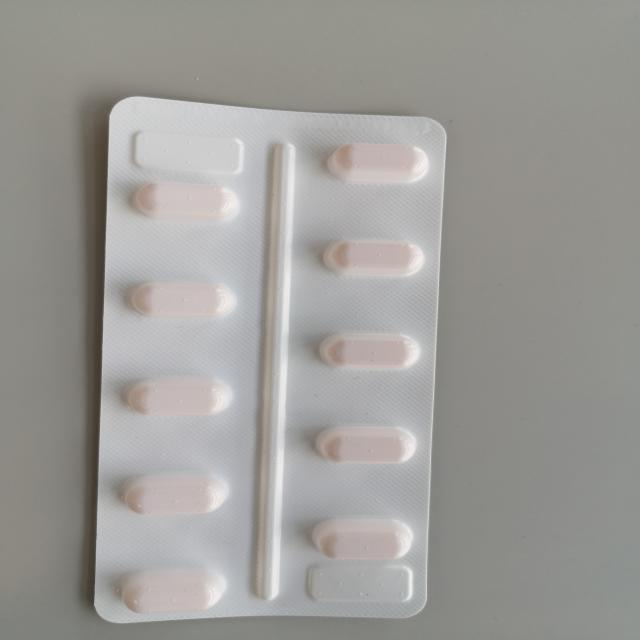Pill: (112, 173, 254, 229), (314, 129, 439, 192), (112, 460, 239, 522), (110, 561, 236, 621), (110, 366, 241, 423), (303, 414, 428, 472), (119, 272, 248, 328), (312, 229, 436, 286), (306, 322, 432, 378), (294, 512, 426, 564)
